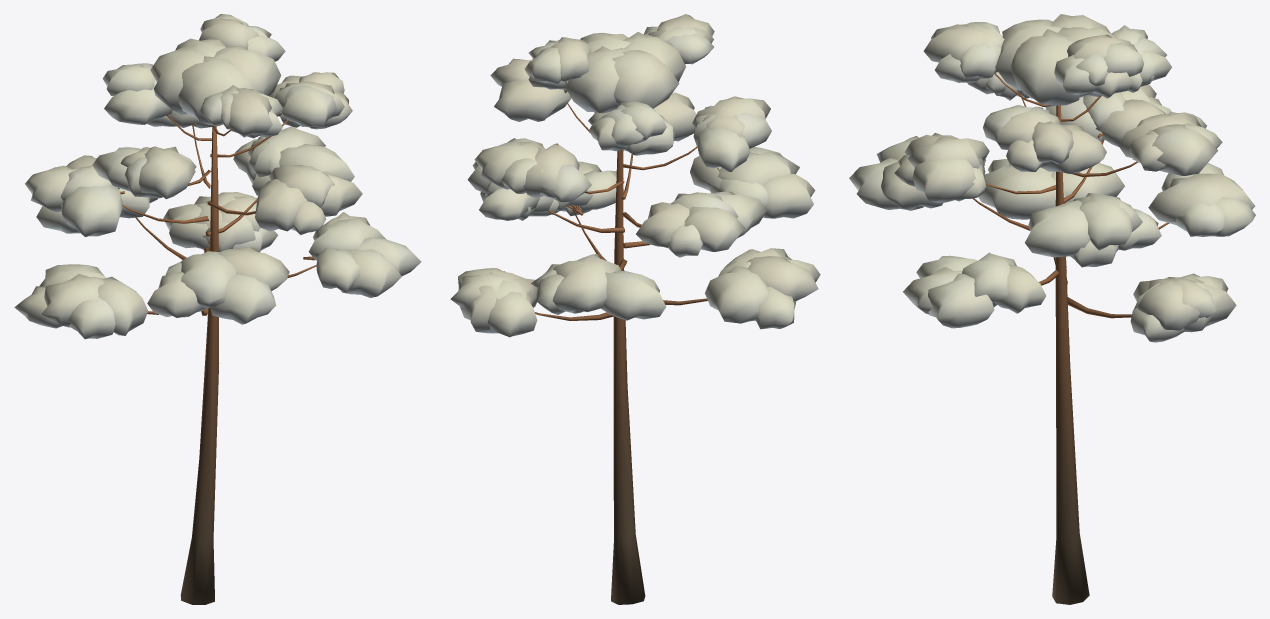
3 renders of one model, left to right at view 1: azimuth 30°, elevation 25°; view 2: azimuth 150°, elevation 25°; view 3: azimuth 270°, elevation 25°, orthographic. The views are drawn at different scales.
Visible parts, largest first — view 1: crown, trunk; view 2: crown, trunk; view 3: crown, trunk.
Boxes of the visible parts, bbox=[...] form: crown: bbox=[14, 14, 421, 339]; trunk: bbox=[120, 113, 316, 604]; crown: bbox=[450, 14, 820, 337]; trunk: bbox=[535, 96, 707, 604]; crown: bbox=[849, 14, 1255, 342]; trunk: bbox=[972, 73, 1169, 604].
Bounding box in the file's own units: 10.43 × 16.58 × 10.5.
